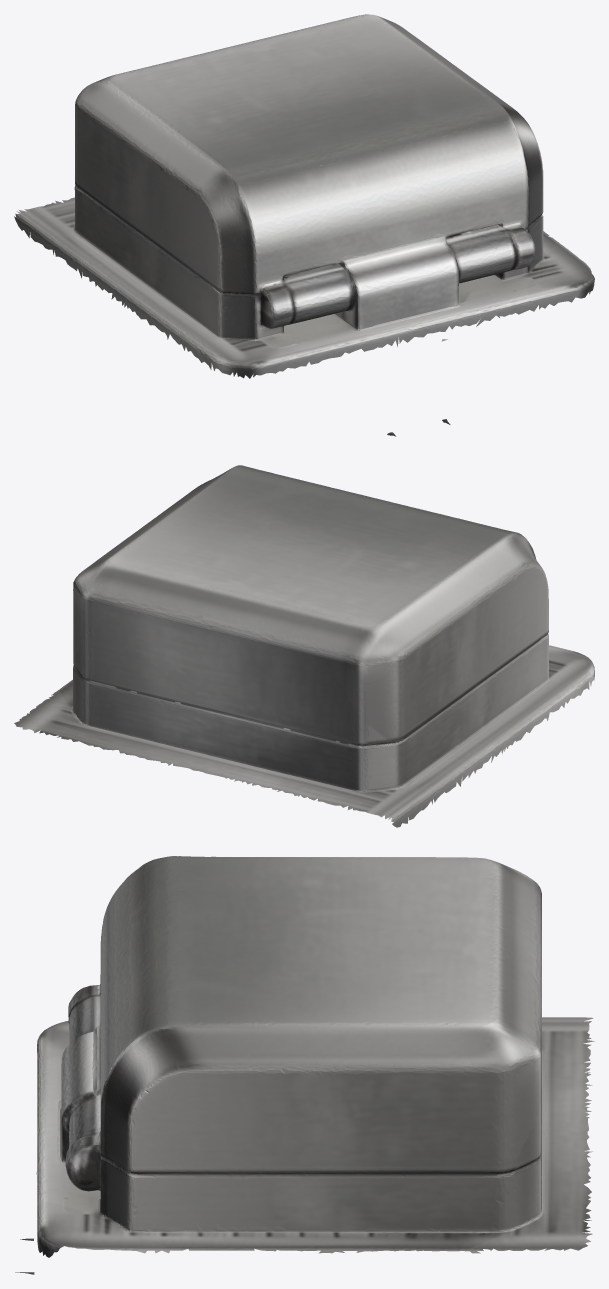
File: hood_top.glb
3 renders of one model, top to bottom at view 1: azimuth 30°, elevation 25°; view 2: azimuth 150°, elevation 25°; view 3: azimuth 270°, elevation 25°, orthographic. The views are drawn at different scales.
Visible parts, largest first — view 1: source_surface_0; view 2: source_surface_0; view 3: source_surface_0.
Part boxes in pixels (x1,y1,x2,y2): source_surface_0: (14,14,594,436); source_surface_0: (14,465,594,827); source_surface_0: (15,856,594,1274).
Size of the model in its own units: 0.2305 by 0.1447 by 0.2394.
1 material, 1 textured.
